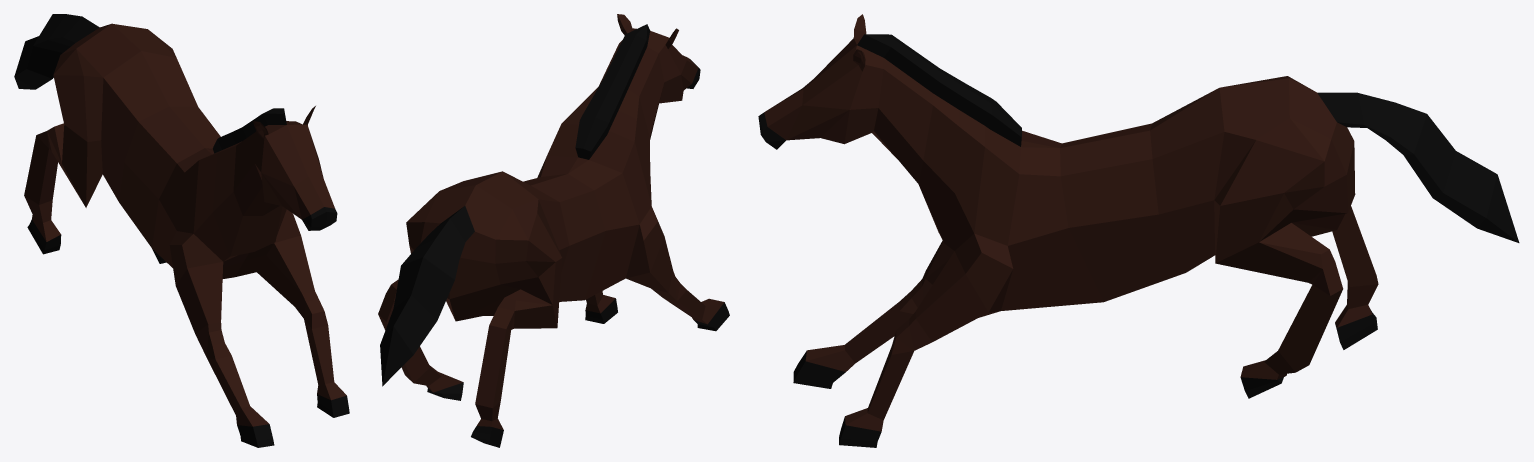
Rendered from Horse_000023.obj.
3 views of the same model, side by side, from view 1: azimuth 30°, elevation 25°; view 2: azimuth 150°, elevation 25°; view 3: azimuth 270°, elevation 25° (orthographic). The views are drawn at different scales.
Parts seen in each view (by area): view 1: Horse_Cylinder; view 2: Horse_Cylinder; view 3: Horse_Cylinder.
Part boxes in pixels (<box>): Horse_Cylinder: <box>14,14,349,447</box>; Horse_Cylinder: <box>378,14,729,447</box>; Horse_Cylinder: <box>758,14,1519,447</box>.
Bounding box in the file's own units: 2.87 × 5.84 × 10.57.
